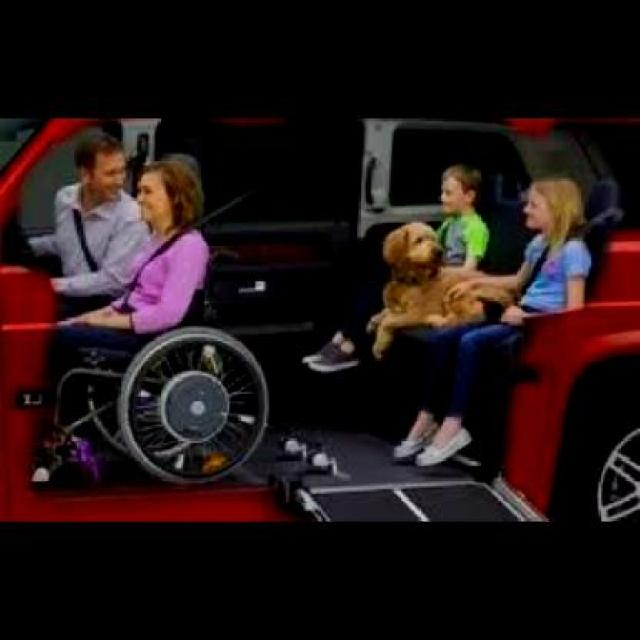wheelchairs: (43, 324, 265, 485)
